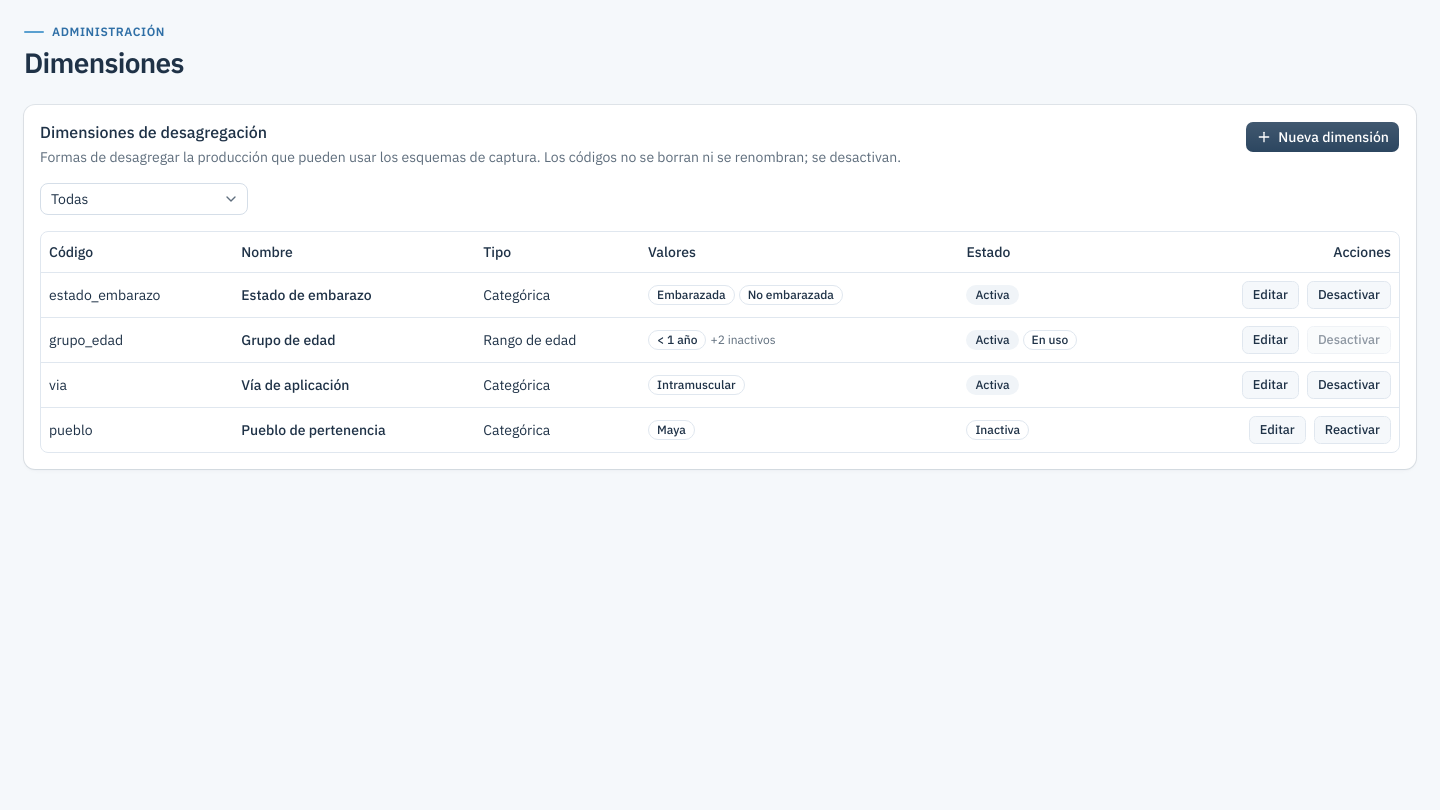
acciones › desactivar una dimensión pide confirmación, reemplaza la fila y muestra el aviso
What coordinates should you click on to do the following:
click the button with aria-label "Desactivar via"
I would click on:
 (1349, 385)
Its box is [1307,371,1391,399].
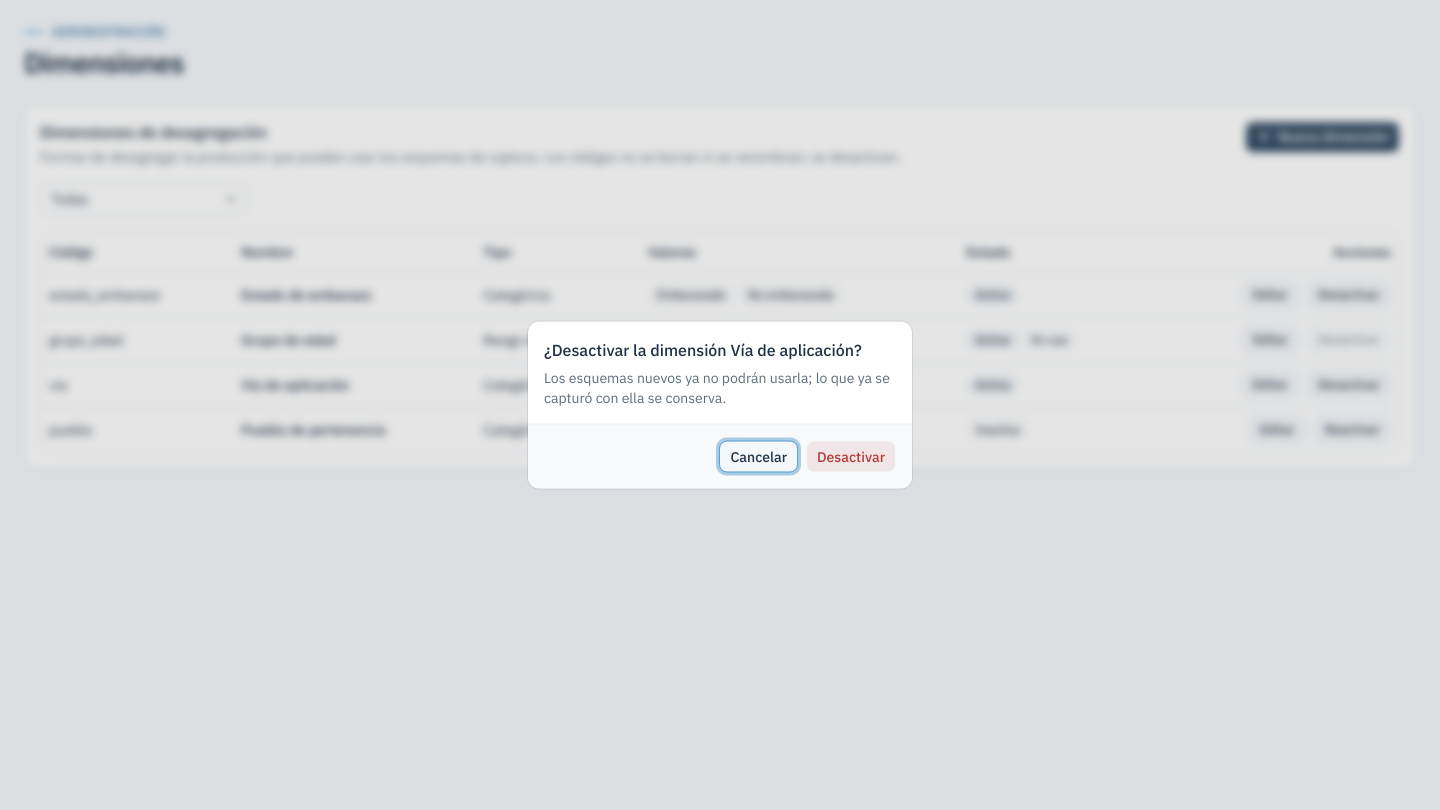
Now the heading "¿Desactivar la dimensión Vía de aplicación?" is shown, box [544,338,862,362]
What coordinates should you click on to do the following:
click the button "Desactivar"
I would click on:
 (851, 456)
Its box is [806,440,896,472].
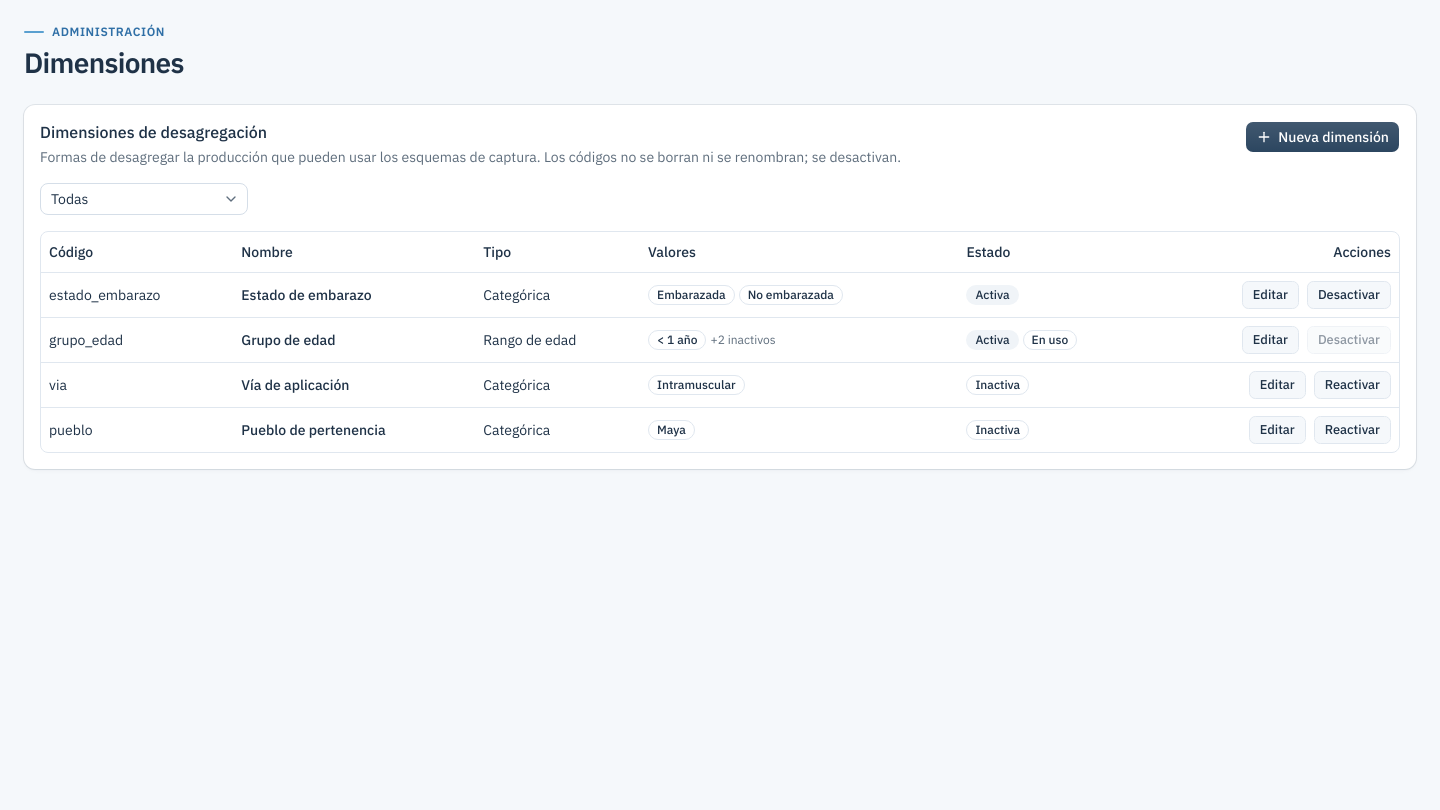
Now the button with aria-label "Reactivar via" is shown, box [1314,371,1391,399]
